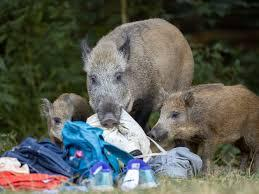wildboar: (79, 16, 195, 132), (148, 83, 259, 178), (36, 88, 90, 151)
